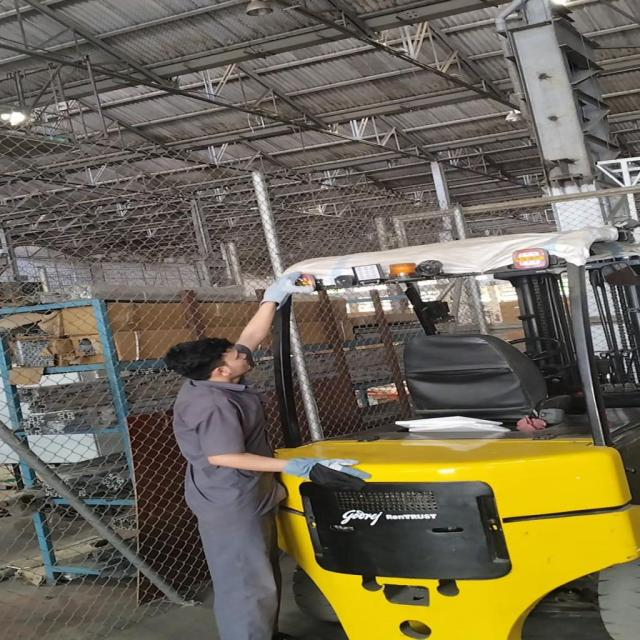Gloves-Detection: (278, 451, 371, 494), (262, 259, 314, 314)
